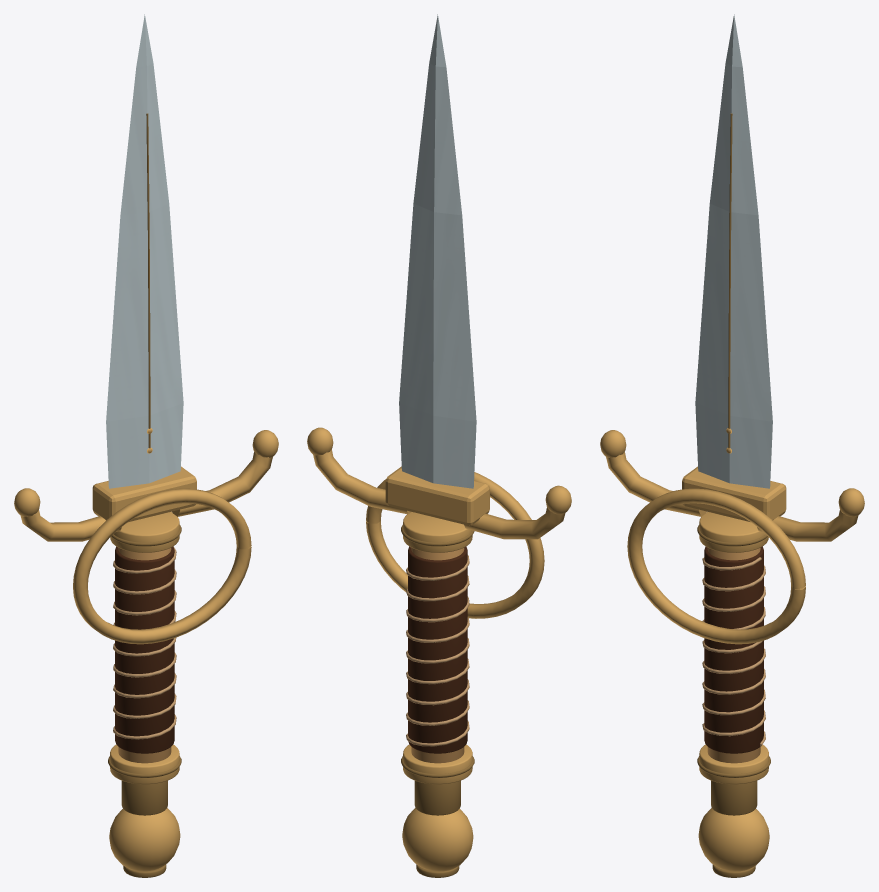
Rendered from knife.glb.
3 views of the same model, side by side, from view 1: azimuth 30°, elevation 25°; view 2: azimuth 150°, elevation 25°; view 3: azimuth 330°, elevation 25° (orthographic).
Visible parts, largest first — view 1: Render_knife; view 2: Render_knife; view 3: Render_knife.
Boxes of the visible parts, bbox=[...] form: Render_knife: bbox=[14, 14, 278, 877]; Render_knife: bbox=[307, 14, 571, 877]; Render_knife: bbox=[600, 14, 864, 877].
Bounding box in the file's own units: 0.182 × 0.5698 × 0.0478.
7 materials, 7 textured.
